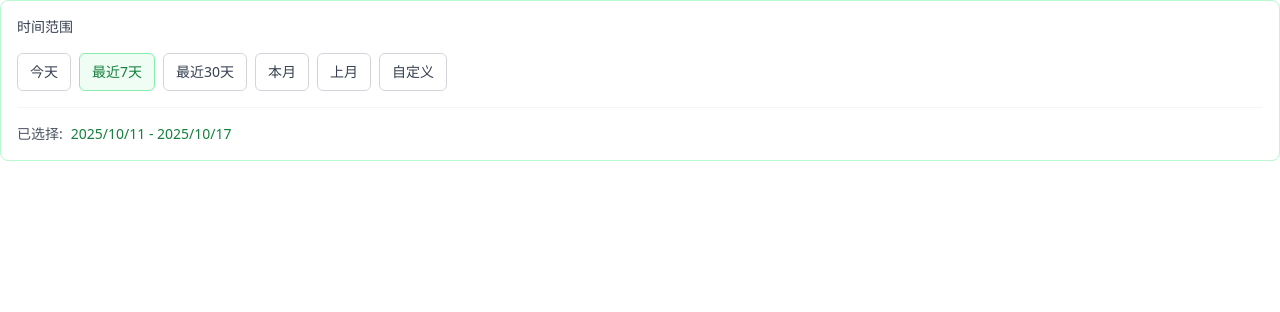
Test: TimeRangeSelector › 自定义日期范围功能 › 应该在选择自定义时显示日期输入框
Click the button "自定义".
click(413, 72)  # box [379,53,447,91]
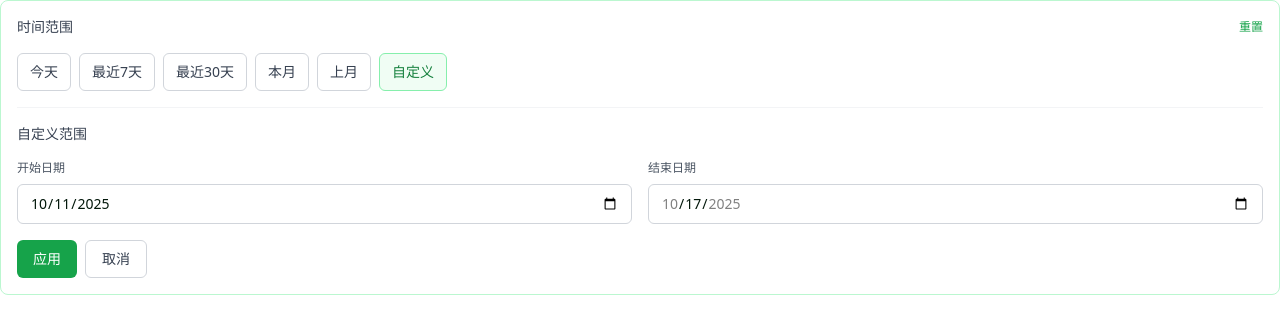
Check: the element with class "time-range-selector__custom" is shown, box [17,107,1263,278]
Check: the number of date fields with class "date-input" is 2, box [17,184,632,224]; [648,184,1263,224]
